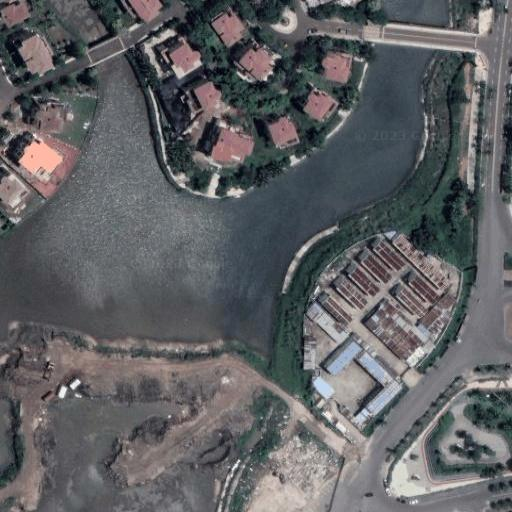building: (360, 296, 432, 367), (389, 232, 449, 290), (349, 331, 403, 381), (353, 348, 403, 396), (203, 115, 250, 160), (9, 133, 55, 176), (305, 304, 349, 346), (321, 336, 362, 378), (157, 33, 197, 75), (12, 28, 50, 72), (420, 292, 457, 336), (293, 82, 330, 119), (177, 75, 218, 108), (231, 39, 266, 77), (210, 9, 245, 47), (389, 284, 424, 318), (264, 111, 296, 147), (403, 272, 436, 304), (368, 236, 400, 268), (344, 264, 376, 295), (317, 292, 348, 323), (332, 277, 364, 307), (357, 250, 388, 280), (315, 49, 344, 81), (366, 388, 394, 416), (307, 374, 335, 400), (33, 103, 60, 129), (339, 406, 365, 431), (303, 336, 317, 372), (356, 407, 375, 427), (416, 323, 432, 338), (382, 231, 397, 241), (316, 399, 326, 409), (322, 410, 332, 420), (336, 422, 346, 432)
